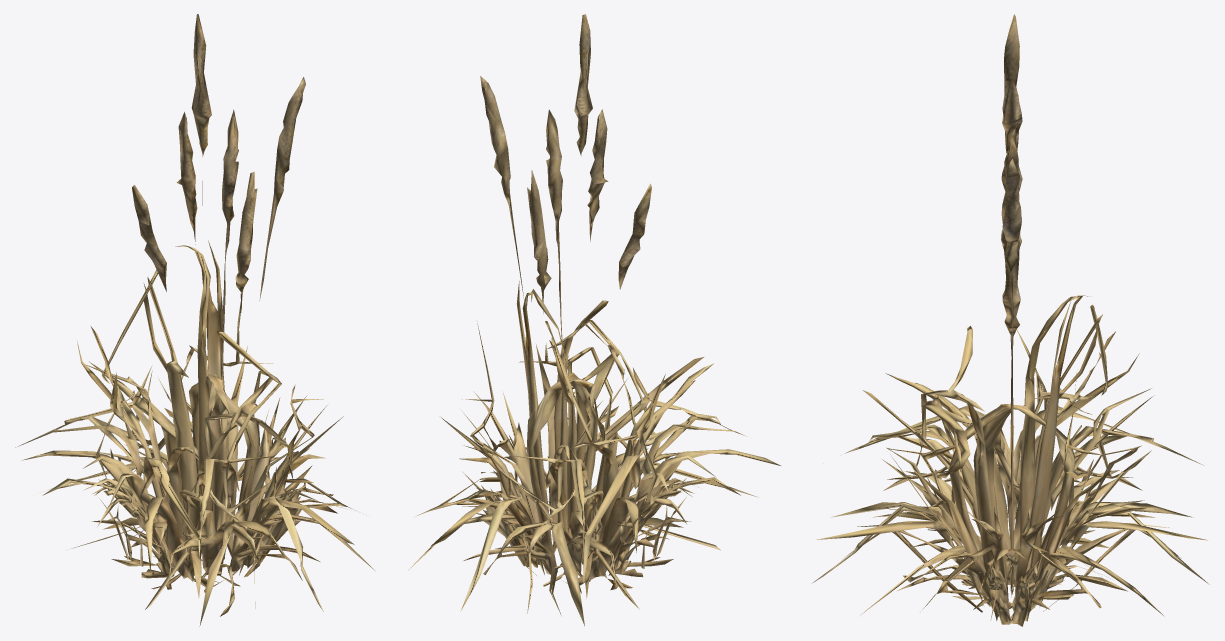
File: drygrass.glb
3 renders of one model, left to right at view 1: azimuth 30°, elevation 25°; view 2: azimuth 150°, elevation 25°; view 3: azimuth 270°, elevation 25°, orthographic. The views are drawn at different scales.
Parts seen in each view (by area): view 1: drygrass; view 2: drygrass; view 3: drygrass.
Part boxes in pixels (x1,y1,x2,y2): drygrass: [15, 14, 374, 626]; drygrass: [408, 14, 780, 625]; drygrass: [813, 14, 1209, 626].
Size of the model in its own units: 0.4753 by 0.9833 by 0.6101.
1 material, 1 textured.
